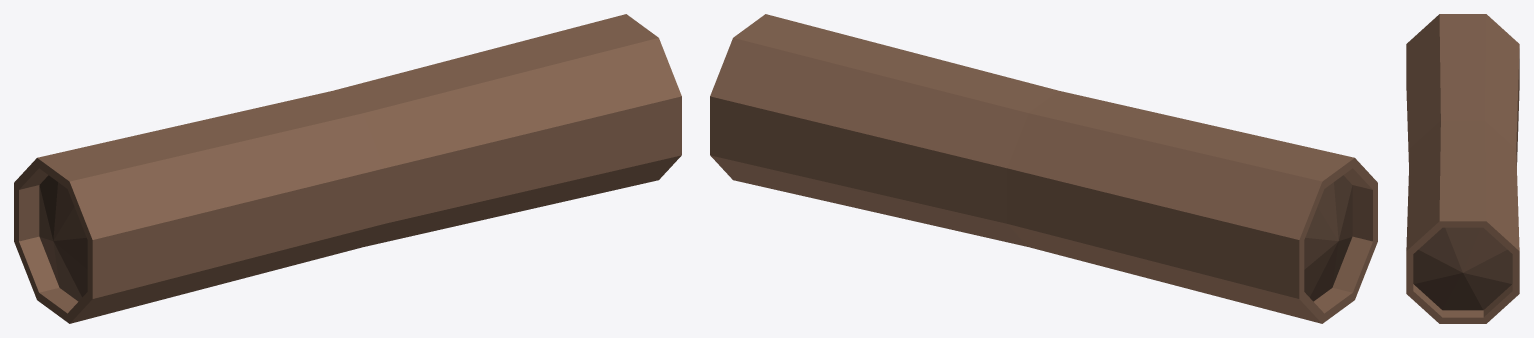
Rendered from Log_1_Light_Brown.fbx.
3 renders of one model, left to right at view 1: azimuth 30°, elevation 25°; view 2: azimuth 150°, elevation 25°; view 3: azimuth 270°, elevation 25°, orthographic. The views are drawn at different scales.
Parts seen in each view (by area): view 1: Log_1_Light_Brown; view 2: Log_1_Light_Brown; view 3: Log_1_Light_Brown.
Part boxes in pixels (x1,y1,x2,y2): Log_1_Light_Brown: (14, 14, 681, 323); Log_1_Light_Brown: (710, 14, 1377, 323); Log_1_Light_Brown: (1406, 14, 1519, 323).
Bounding box in the file's own units: 200 × 46.18 × 46.18.
